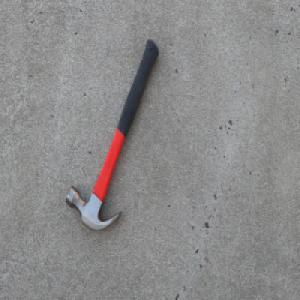Hammer: (65, 37, 160, 232)
